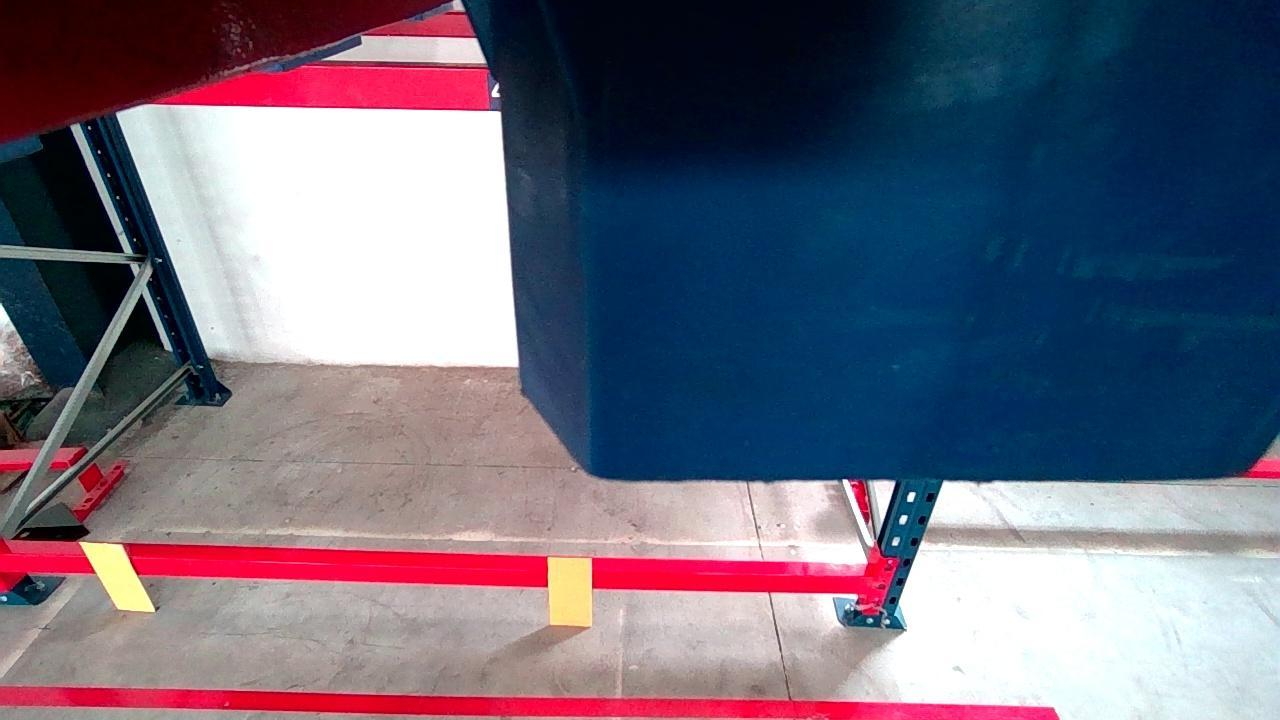h_rack: (6, 550, 858, 593), (162, 69, 495, 107)
orange_strip: (81, 541, 153, 609), (547, 559, 591, 625)
red_line: (6, 684, 1060, 720)
